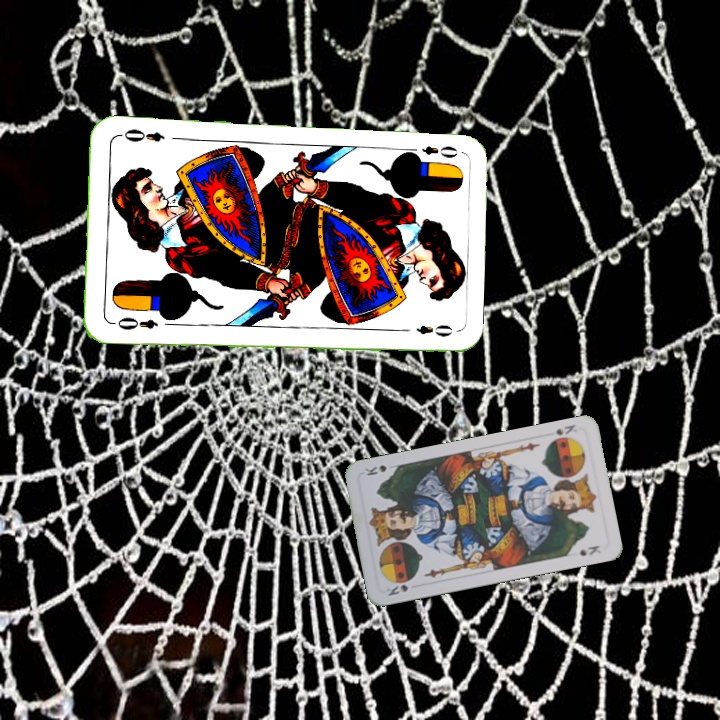EO: (403, 141, 461, 160), (107, 313, 160, 333)
SK: (542, 420, 580, 439), (382, 581, 411, 598)
